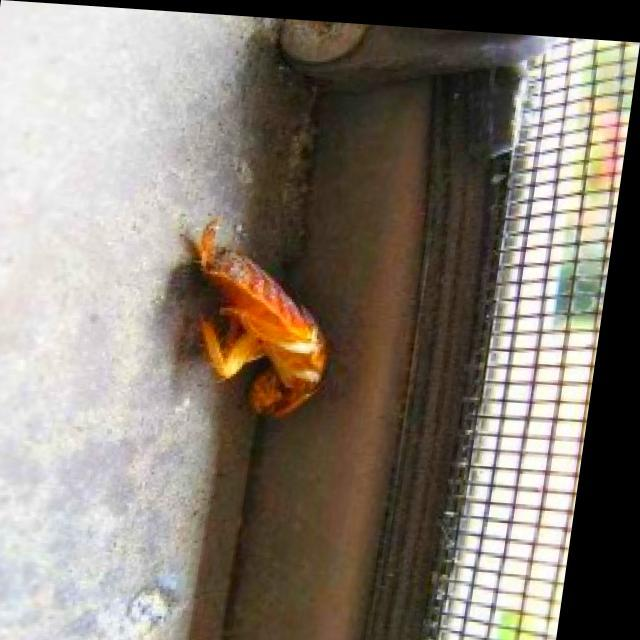cockroach: (178, 213, 334, 424)
